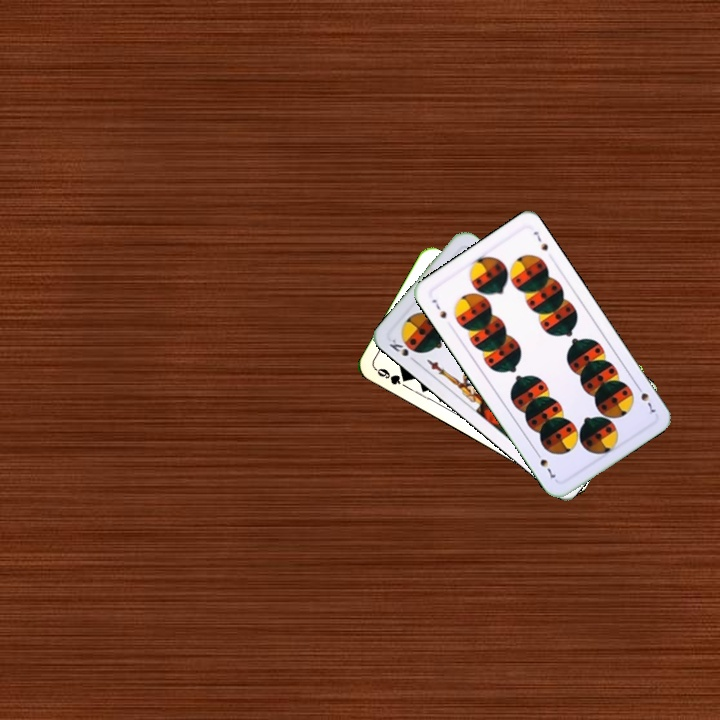G9: (371, 364, 412, 387)
S7: (632, 380, 658, 417), (427, 295, 449, 321)
SK: (385, 333, 420, 366)
